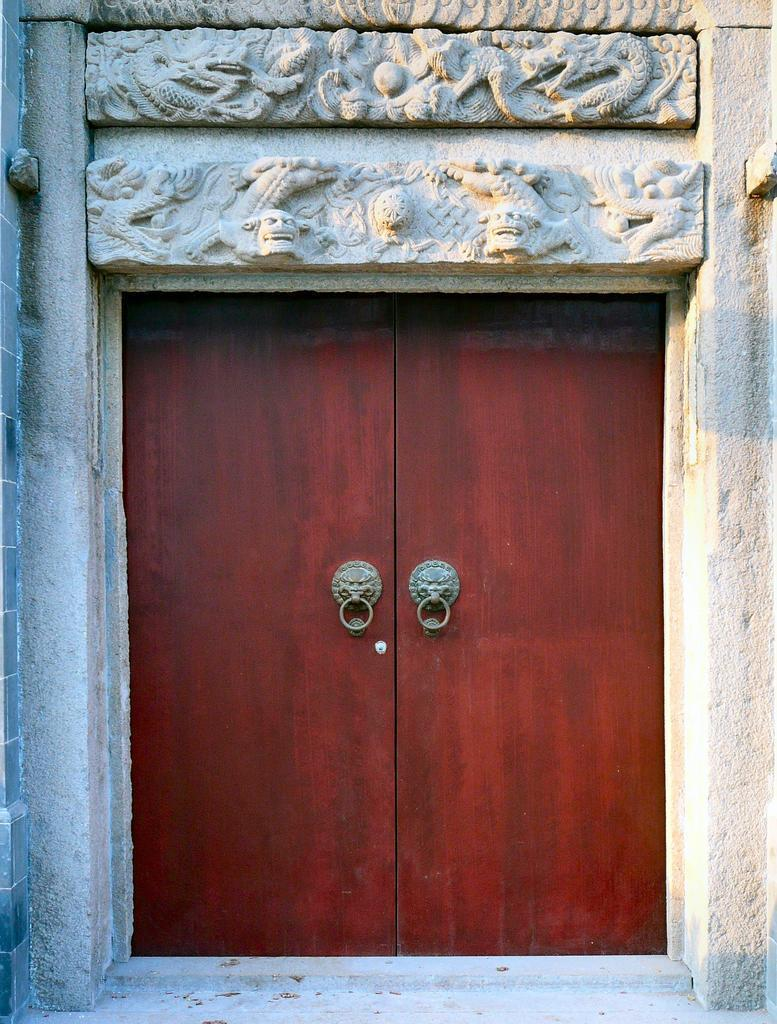door: (397, 327, 666, 946), (128, 323, 394, 946)
handle: (332, 580, 379, 647), (417, 593, 456, 650)
